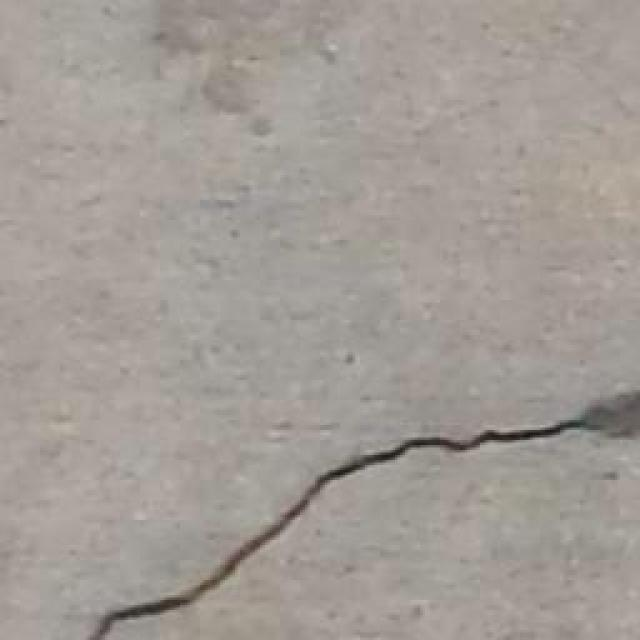concrete-crack: (82, 390, 640, 640)
